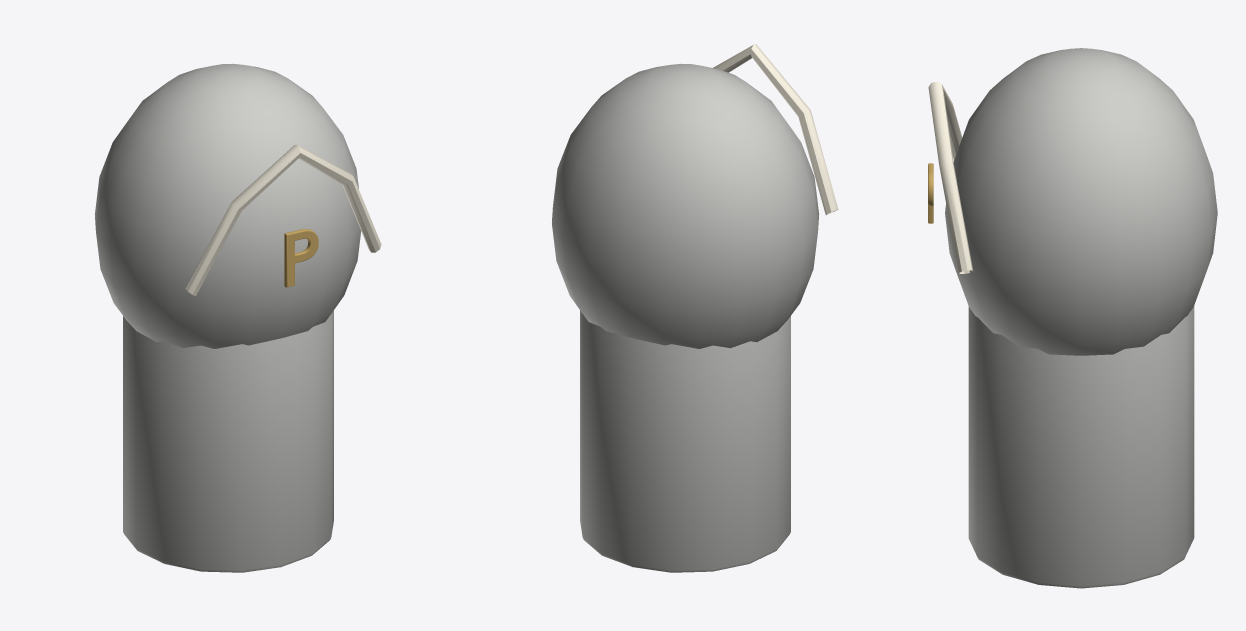
The model's file is checkout_product_headcover.glb.
3 views of the same model, side by side, from view 1: azimuth 30°, elevation 25°; view 2: azimuth 150°, elevation 25°; view 3: azimuth 270°, elevation 25° (orthographic). The views are drawn at different scales.
Visible parts, largest first — view 1: HeadcoverHood, HeadcoverSock, HeadcoverPiping, HeadcoverMark; view 2: HeadcoverHood, HeadcoverSock, HeadcoverPiping; view 3: HeadcoverHood, HeadcoverSock, HeadcoverPiping.
Part boxes in pixels (bbox=[...]): HeadcoverHood: bbox=[94, 63, 361, 348]; HeadcoverSock: bbox=[123, 310, 333, 572]; HeadcoverPiping: bbox=[185, 144, 381, 296]; HeadcoverMark: bbox=[284, 229, 318, 287]; HeadcoverHood: bbox=[552, 63, 819, 348]; HeadcoverSock: bbox=[580, 310, 790, 572]; HeadcoverPiping: bbox=[713, 44, 838, 215]; HeadcoverHood: bbox=[945, 48, 1217, 355]; HeadcoverSock: bbox=[968, 306, 1194, 588]; HeadcoverPiping: bbox=[928, 81, 973, 273].
Bounding box in the file's own units: 0.14 × 0.213 × 0.1211.
